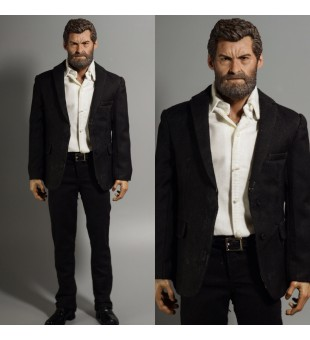F_M_suit jacket: (25, 62, 132, 180)
F_belt: (212, 228, 261, 253), (63, 148, 97, 162)
F_dress pants: (48, 160, 116, 311)
